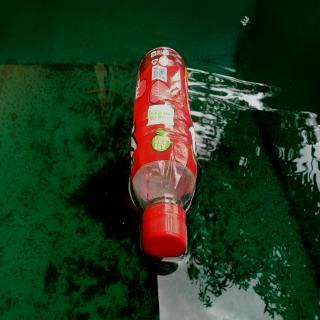bottle: (130, 46, 198, 260)
